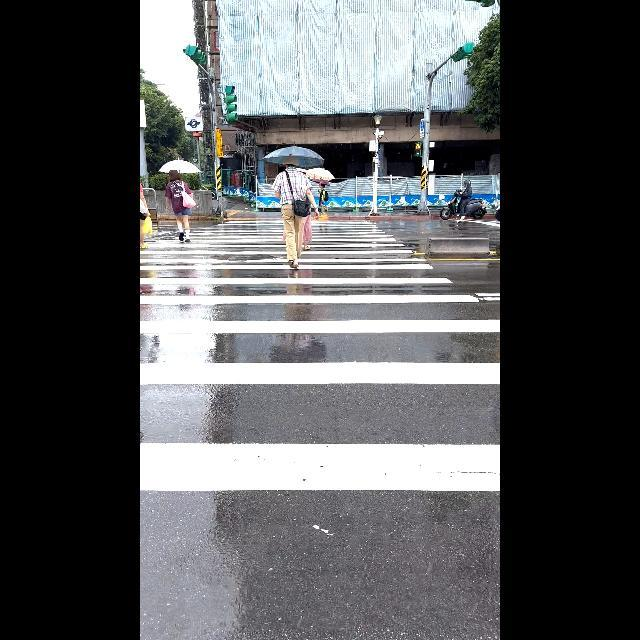sidewalk: (140, 216, 500, 640)
